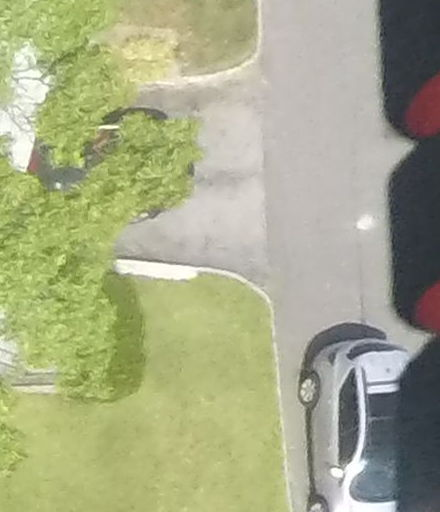car: (288, 309, 425, 512)
